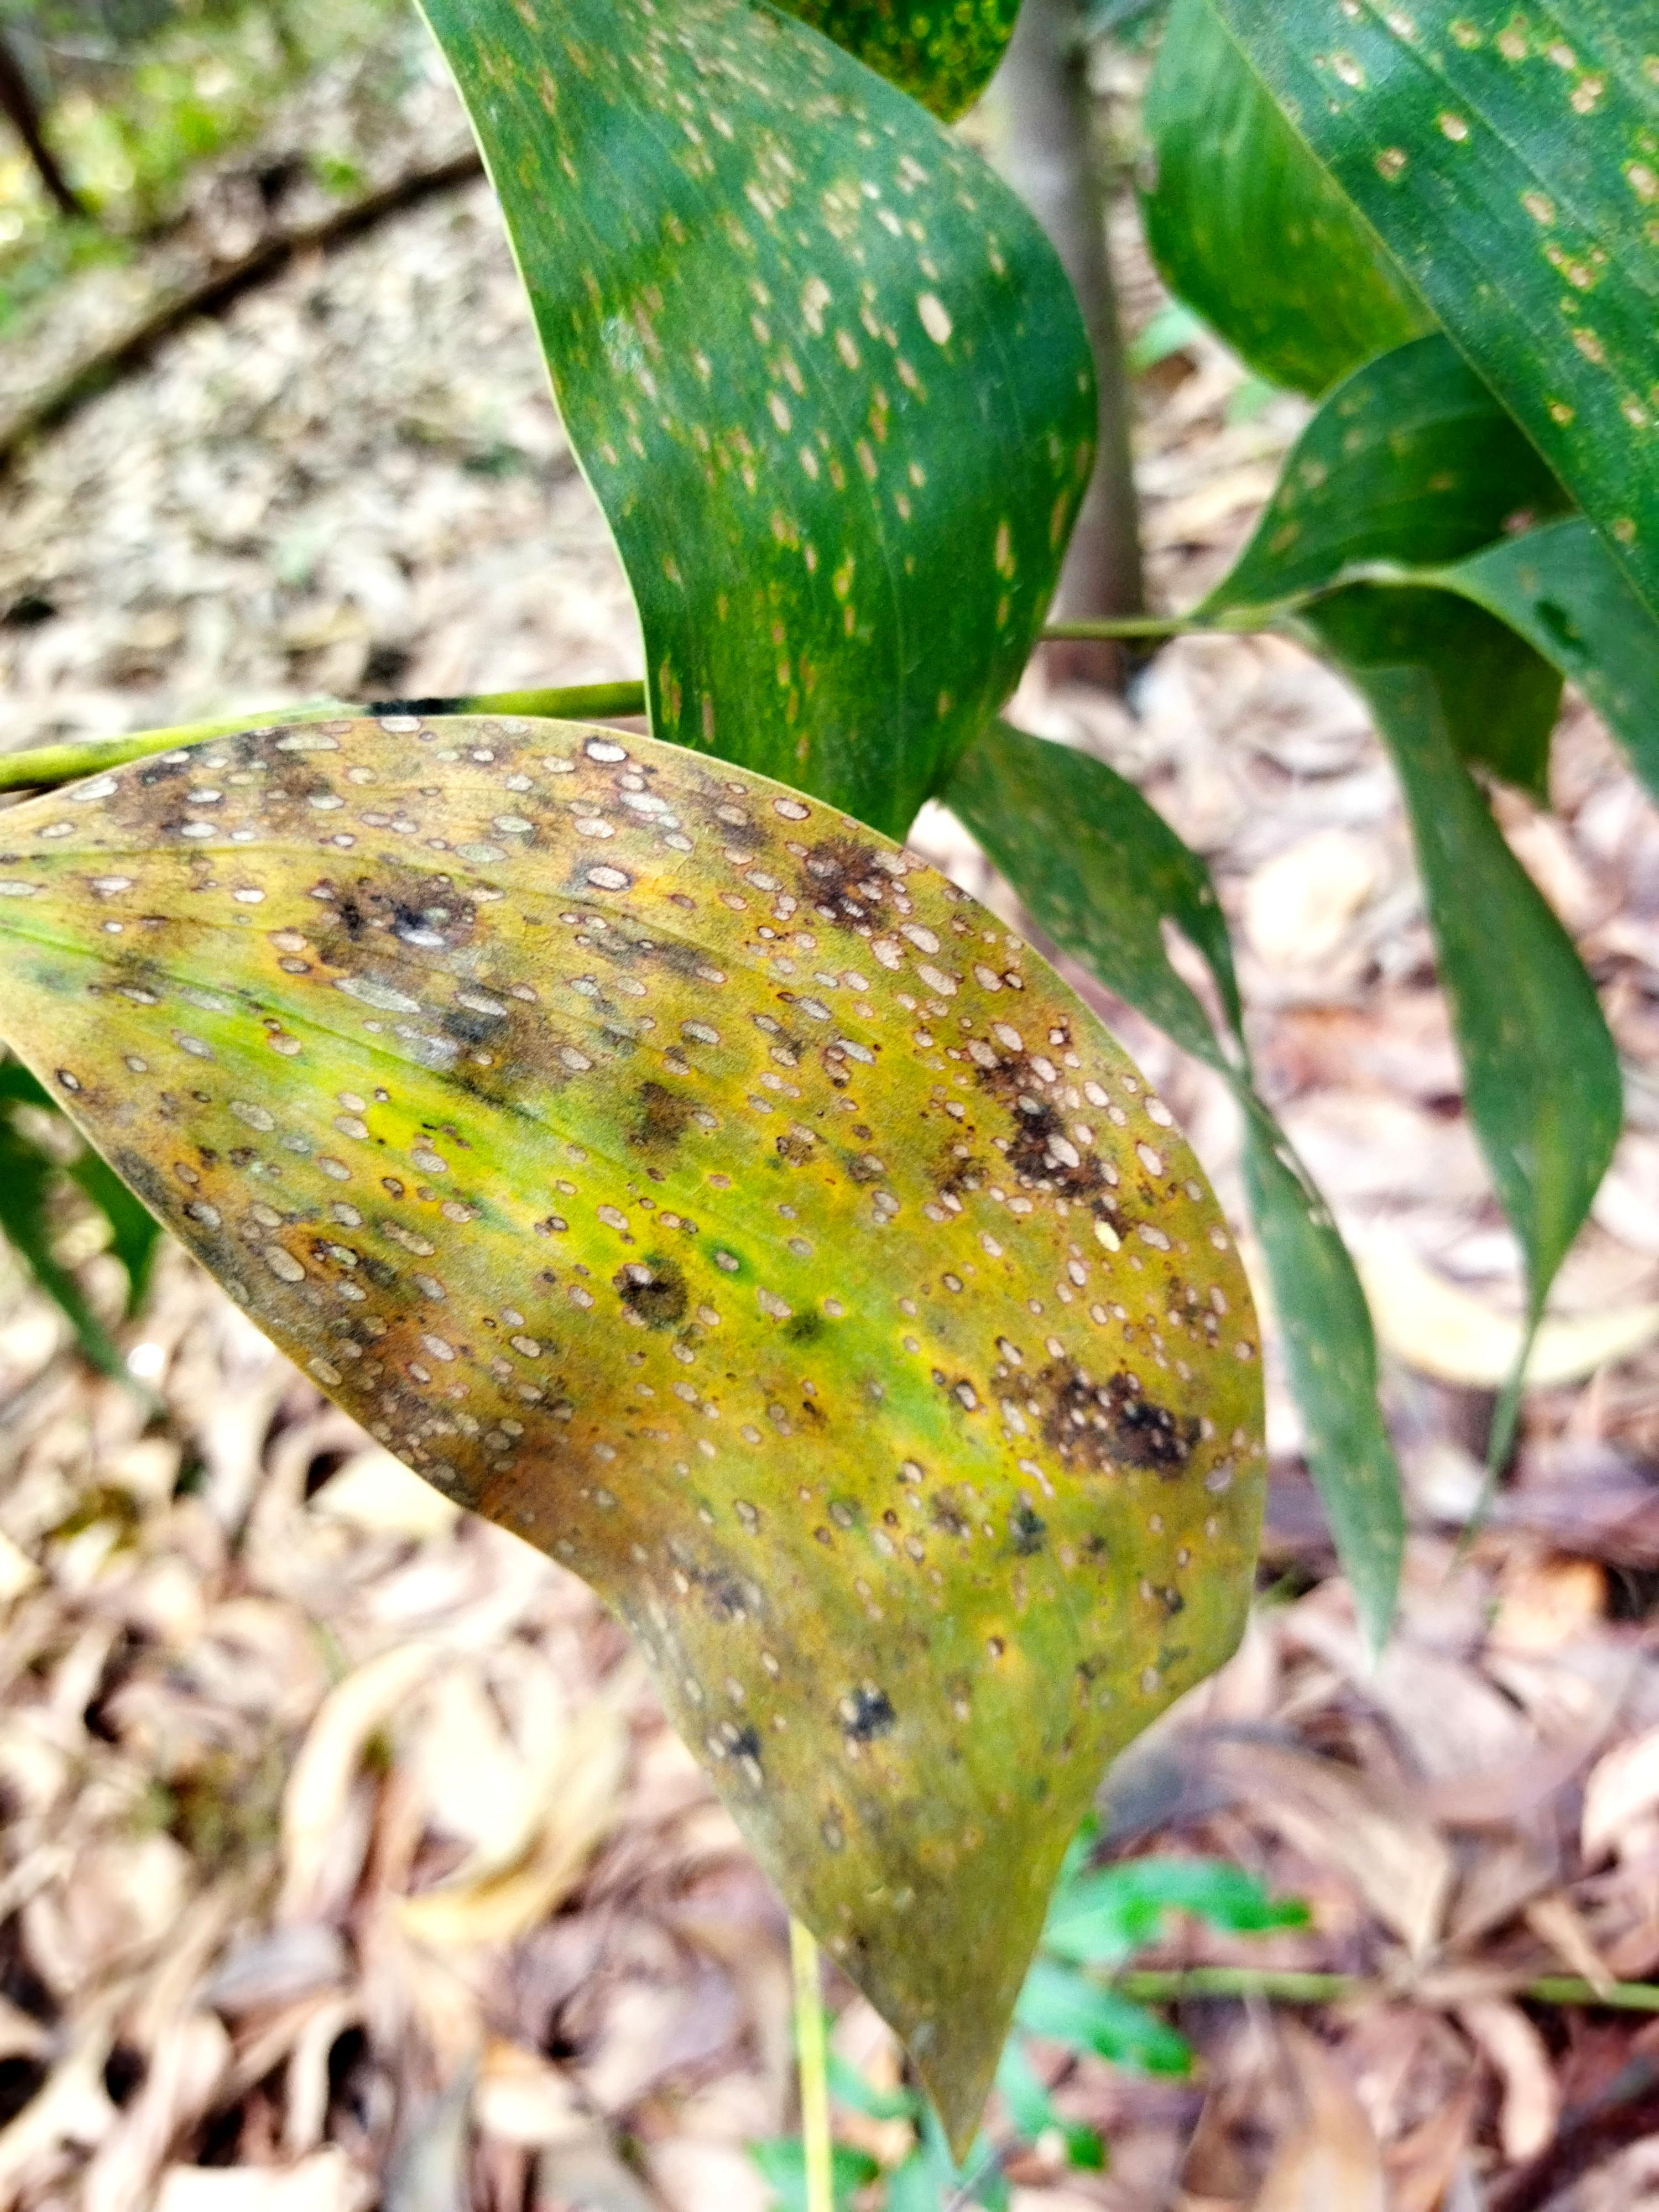Xanthomonas: (73, 747, 1288, 1623)
